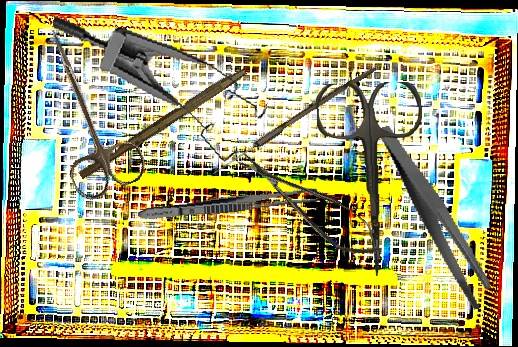Dressing Forceps: (376, 110, 496, 323), (137, 184, 319, 225)
Iris Scissors: (14, 16, 152, 205), (315, 81, 428, 278)
Micro Scissor: (231, 137, 389, 270)
Scalpel Handle: (77, 62, 248, 184)
Speculum: (33, 12, 277, 169)
Surgical Spoon: (210, 62, 377, 179)
